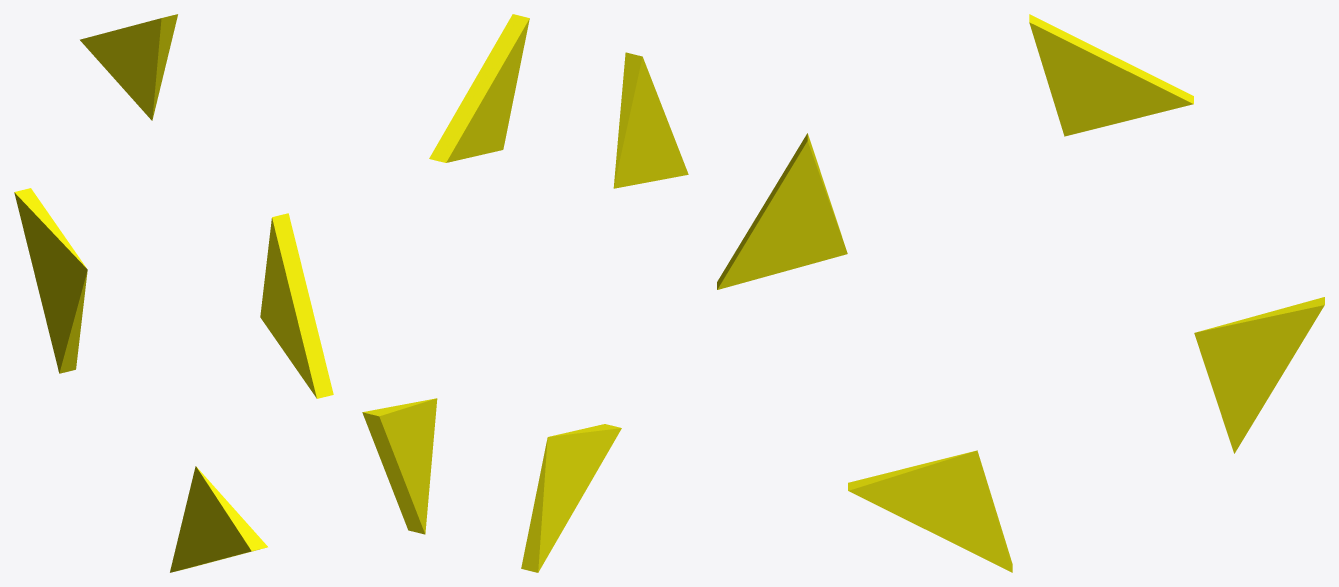
File: lock_on_animation_sem_apply.fbx
The picture shows the model from 3 angles, left to right: view 1: azimuth 30°, elevation 25°; view 2: azimuth 150°, elevation 25°; view 3: azimuth 270°, elevation 25°; orthographic projection. The views are drawn at different scales.
Visible parts, largest first — view 1: esquerda, direita, cima, baixo; view 2: cima, baixo, esquerda, direita; view 3: cima, baixo, esquerda, direita.
Boxes of the visible parts, x1=… form: esquerda: x1=260, y1=213, x2=333, y2=398; direita: x1=14, y1=188, x2=87, y2=373; cima: x1=80, y1=14, x2=177, y2=120; baixo: x1=170, y1=466, x2=267, y2=572; cima: x1=429, y1=14, x2=529, y2=162; baixo: x1=521, y1=424, x2=621, y2=572; esquerda: x1=613, y1=52, x2=688, y2=188; direita: x1=362, y1=398, x2=437, y2=534; cima: x1=1029, y1=14, x2=1193, y2=136; baixo: x1=848, y1=450, x2=1012, y2=572; esquerda: x1=717, y1=133, x2=847, y2=289; direita: x1=1194, y1=297, x2=1324, y2=453.
Bounding box in the file's own units: 20.62 × 647 × 647.
